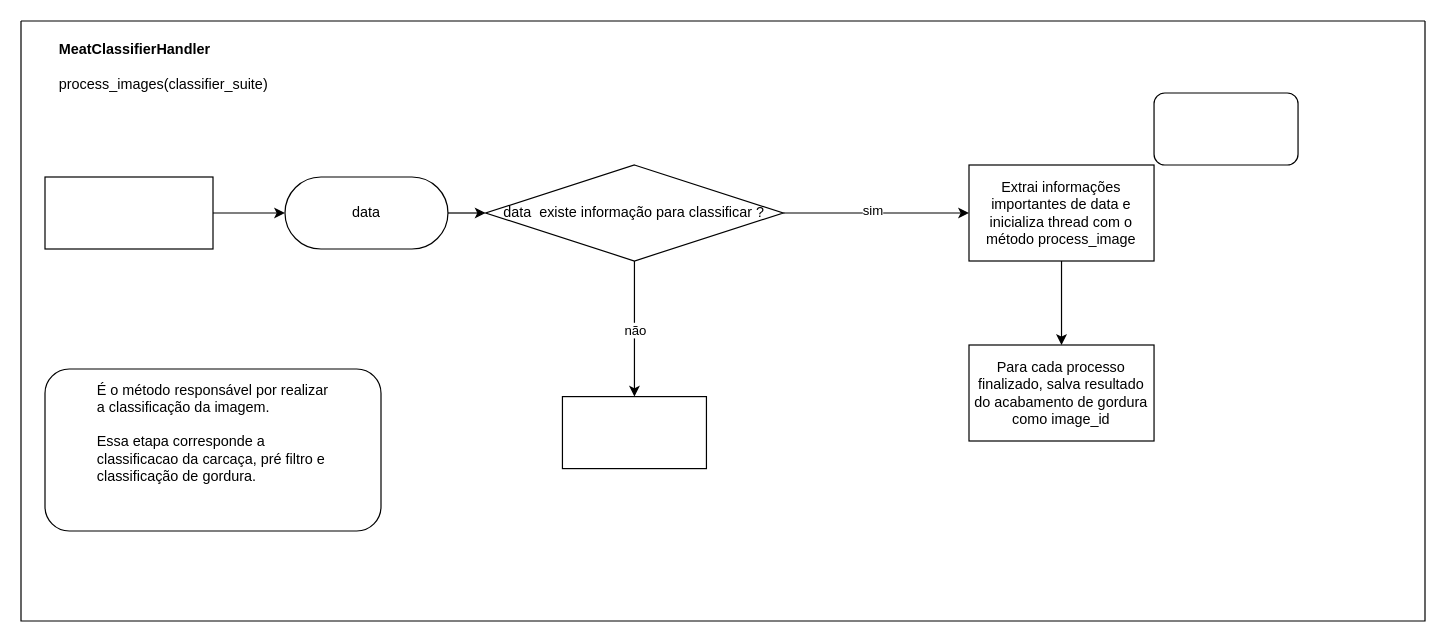
The diagram is 1446 pixels wide and 642 high, and some of its shapes have lost their labels. Here are the shapes that lost their labels. From the top down, the box of each, then its label:
(1153, 92, 1298, 165): ImageController
(44, 176, 213, 249): Busca max_workers das configurações, incializa ThreadPool
(561, 395, 706, 469): Loga mensagem de que não há dados para processar
